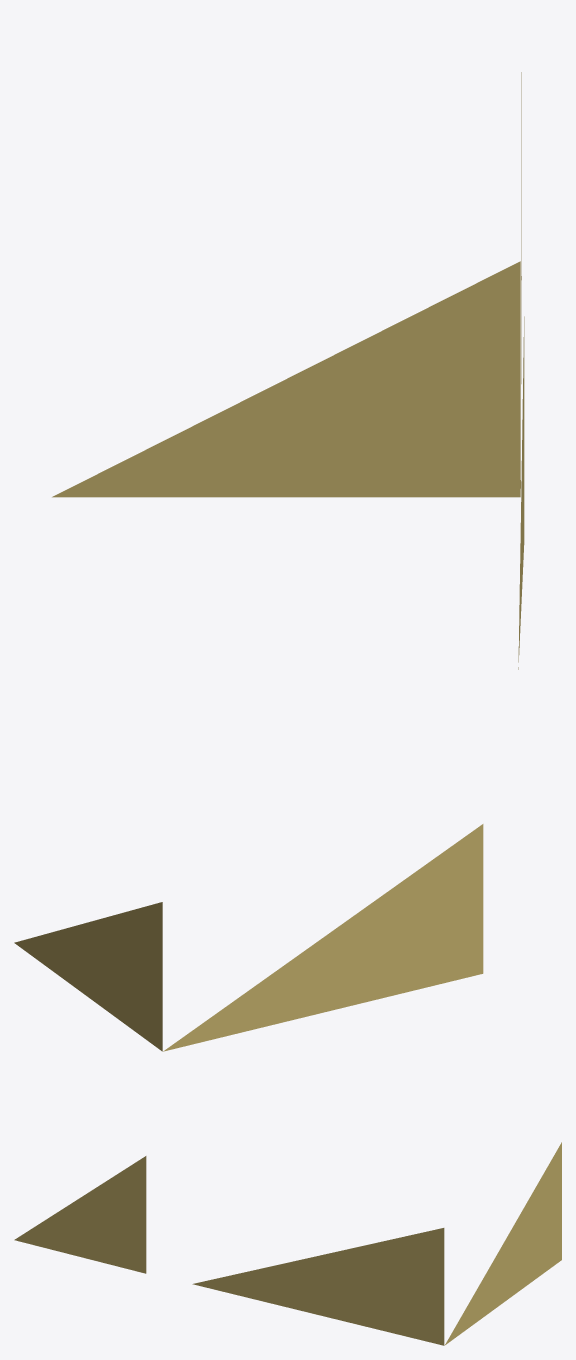
3 views of the same model, one above another, from view 1: azimuth 30°, elevation 25°; view 2: azimuth 150°, elevation 25°; view 3: azimuth 270°, elevation 25° (orthographic). The views are drawn at different scales.
Size of the model in its own units: 20.08 by 7.5 by 31.5.
